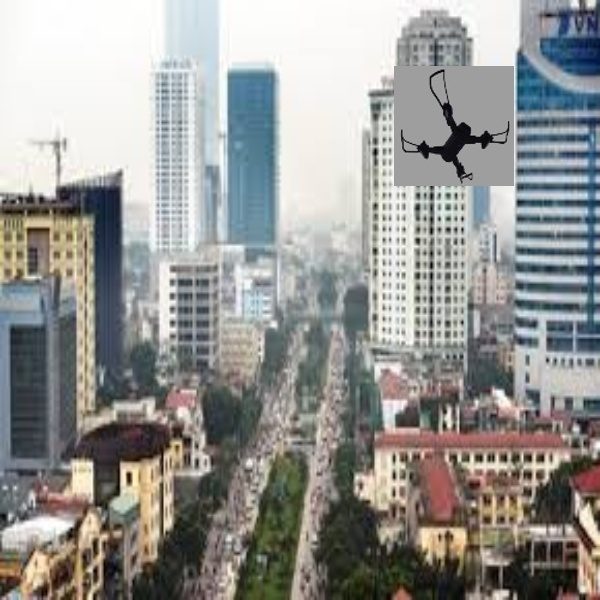drone: (391, 67, 514, 186)
